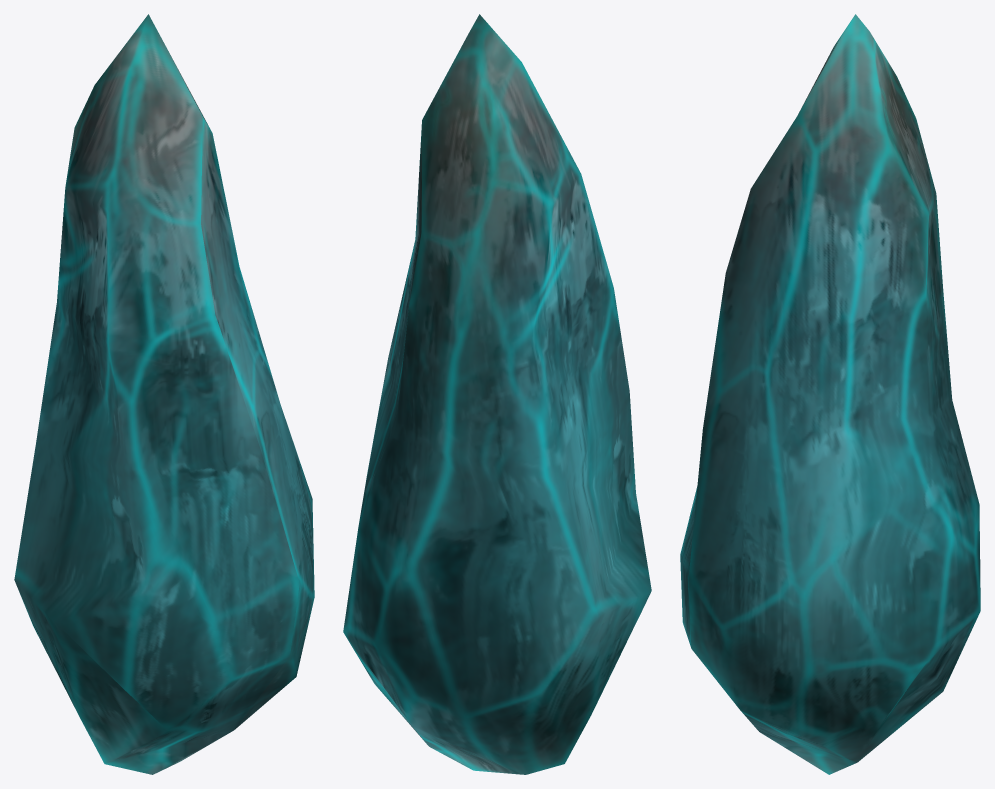
The model's file is Spike_02.FBX.
3 renders of one model, left to right at view 1: azimuth 30°, elevation 25°; view 2: azimuth 150°, elevation 25°; view 3: azimuth 270°, elevation 25°, orthographic. The views are drawn at different scales.
Visible parts, largest first — view 1: Spike_Ice_002; view 2: Spike_Ice_002; view 3: Spike_Ice_002.
Part boxes in pixels (<box>): Spike_Ice_002: <box>14,14,314,774</box>; Spike_Ice_002: <box>343,14,651,774</box>; Spike_Ice_002: <box>680,14,980,774</box>.
Bounding box in the file's own units: 13.47 × 35.99 × 13.04.
